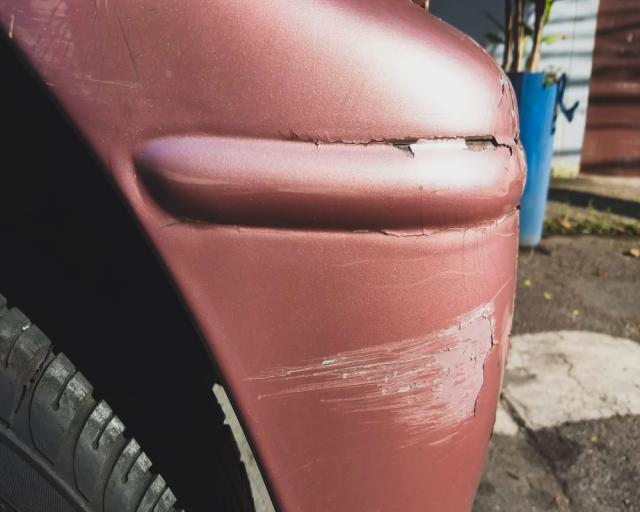scratch: (247, 297, 499, 448)
